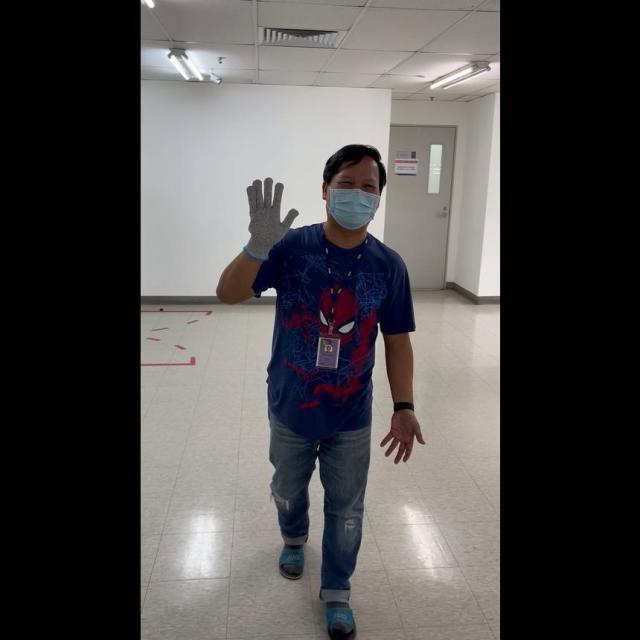bare_hand: (378, 403, 424, 465)
gloved_hand: (239, 172, 298, 259)
